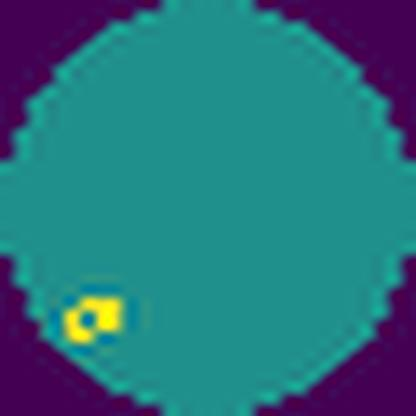Loc: (61, 294, 125, 344)
